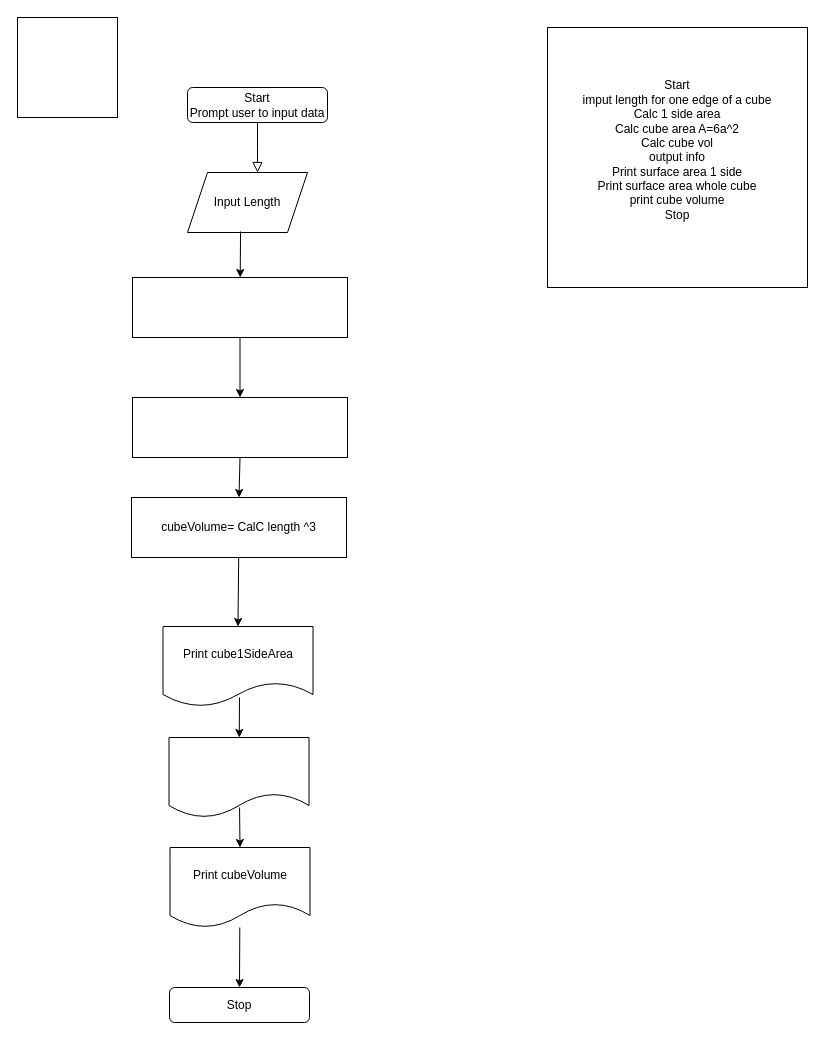
This 825x1040 diagram has some shape labels left out. Here are the shapes that lost their labels. From the top down, the centre of each, then its label:
At pixel 67 67: "CIS 129 Thomas Burns".
At pixel 240 307: "cube1SideArea= CalC 1 side area of cube Length * Length".
At pixel 240 427: "cubeSArea= Calc A=6 * length ^ 2".
At pixel 238 777: "Print cube1cubeSArea".
